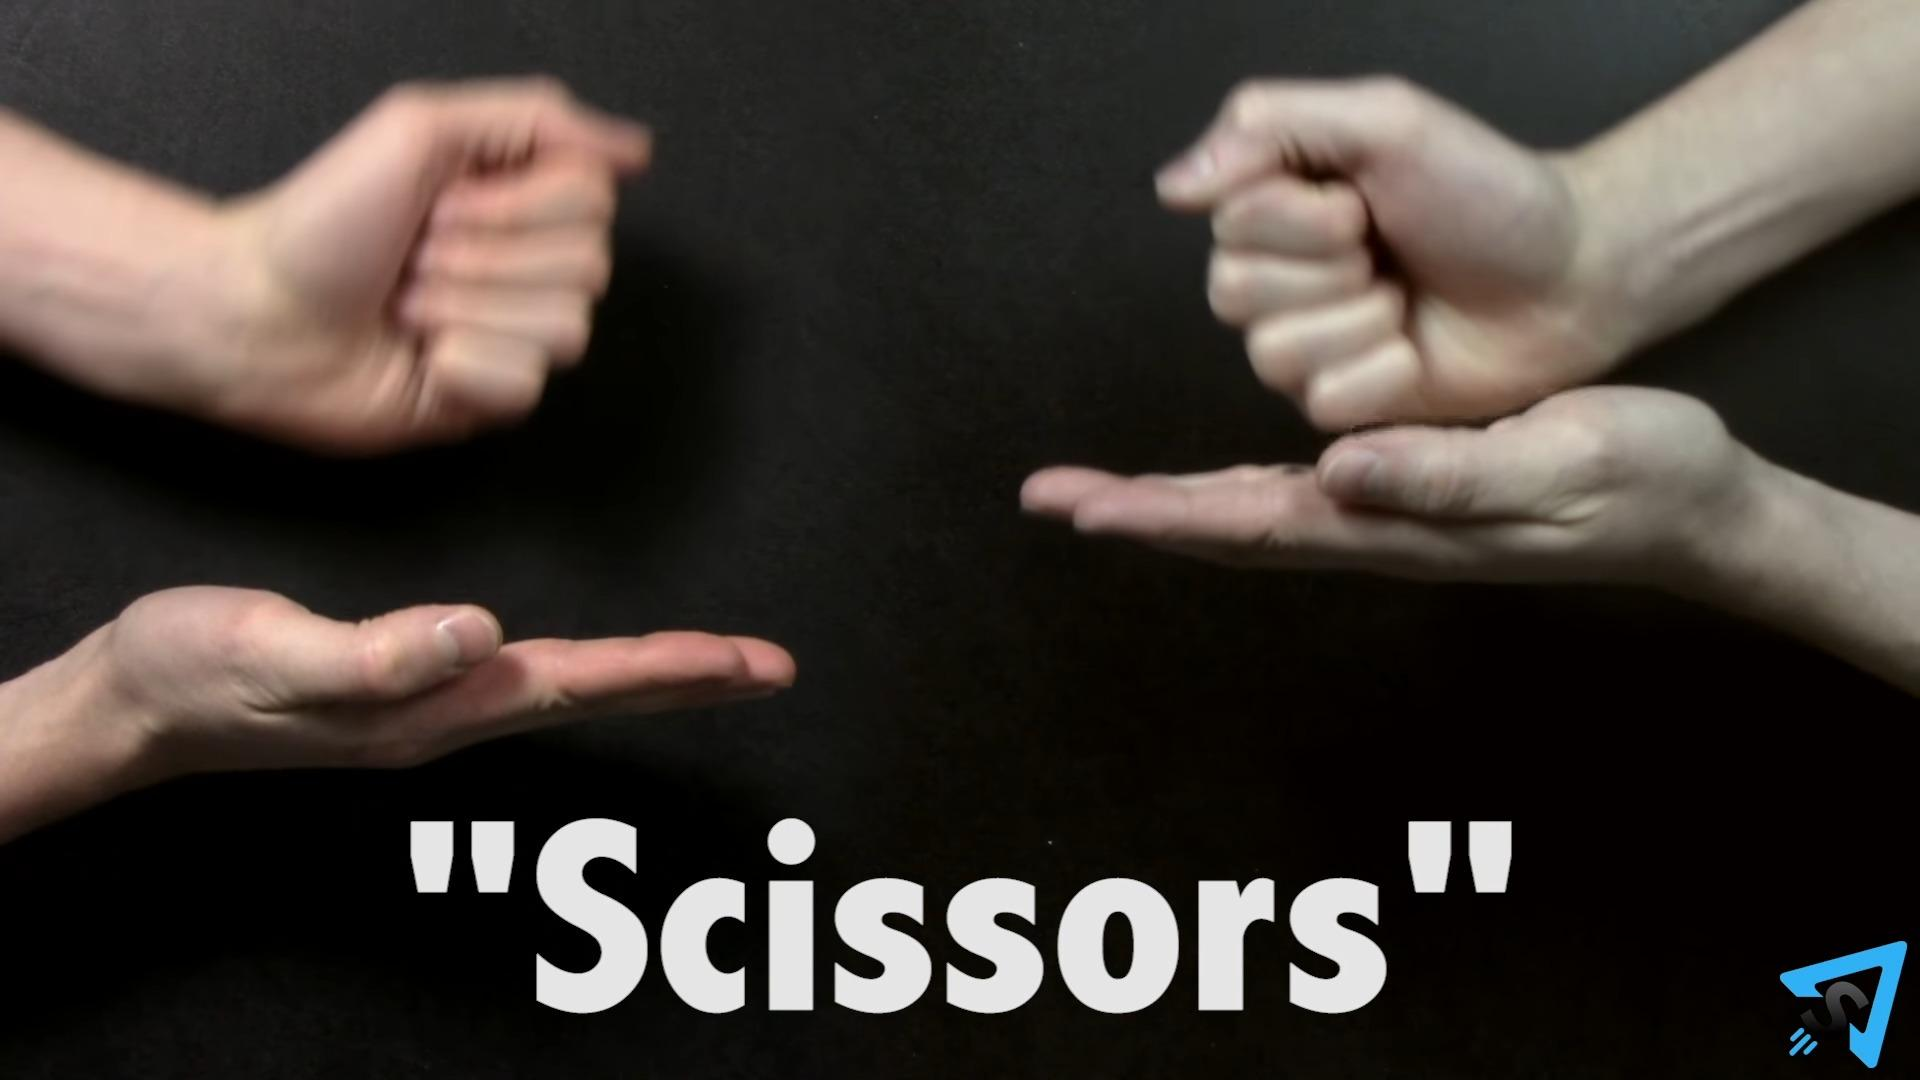Rock: (1160, 78, 1609, 427), (229, 80, 653, 444)
